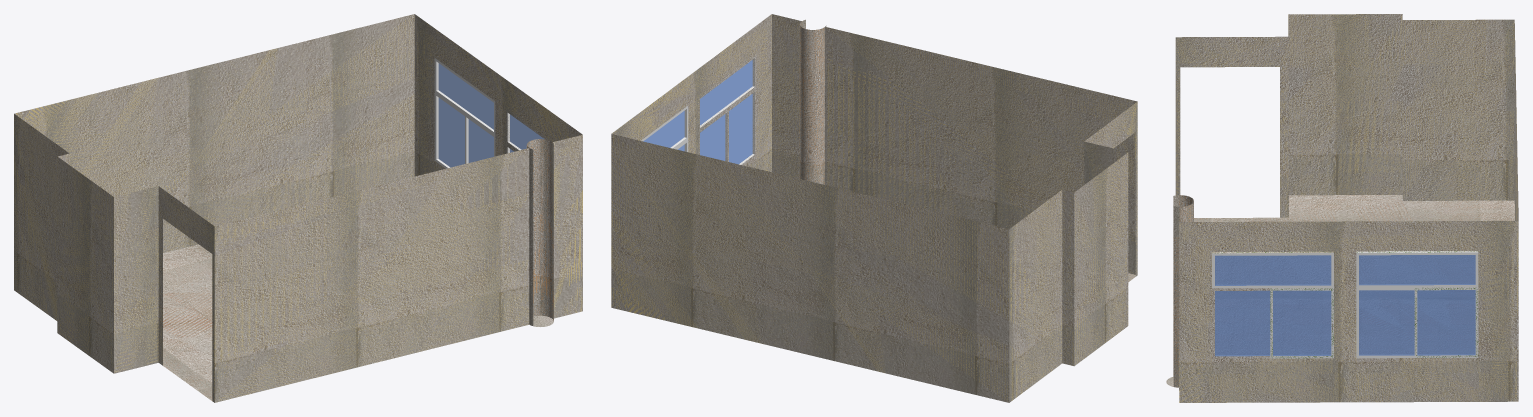
File: LAB014.obj
3 views of the same model, side by side, from view 1: azimuth 30°, elevation 25°; view 2: azimuth 150°, elevation 25°; view 3: azimuth 270°, elevation 25° (orthographic). The views are drawn at different scales.
Parts seen in each view (by area): view 1: Mesh13 LAB014 Model, Mesh7 ventana1_2_2 LAB014 Model, Mesh1 ventana1_2_1 LAB014 Model; view 2: Mesh13 LAB014 Model, Mesh1 ventana1_2_1 LAB014 Model, Mesh7 ventana1_2_2 LAB014 Model; view 3: Mesh13 LAB014 Model, Mesh7 ventana1_2_2 LAB014 Model, Mesh1 ventana1_2_1 LAB014 Model.
Boxes of the visible parts, x1,y1,x2,y2 form: Mesh13 LAB014 Model: (14, 14, 582, 402); Mesh7 ventana1_2_2 LAB014 Model: (434, 58, 495, 168); Mesh1 ventana1_2_1 LAB014 Model: (506, 109, 549, 153); Mesh13 LAB014 Model: (611, 14, 1137, 402); Mesh1 ventana1_2_1 LAB014 Model: (698, 55, 756, 165); Mesh7 ventana1_2_2 LAB014 Model: (641, 105, 688, 151); Mesh13 LAB014 Model: (1166, 14, 1518, 402); Mesh7 ventana1_2_2 LAB014 Model: (1356, 251, 1478, 358); Mesh1 ventana1_2_1 LAB014 Model: (1212, 251, 1333, 358).
Size of the model in its own units: 8.92 by 3.6 by 6.36.
Materials: 8 (2 with a texture image).
